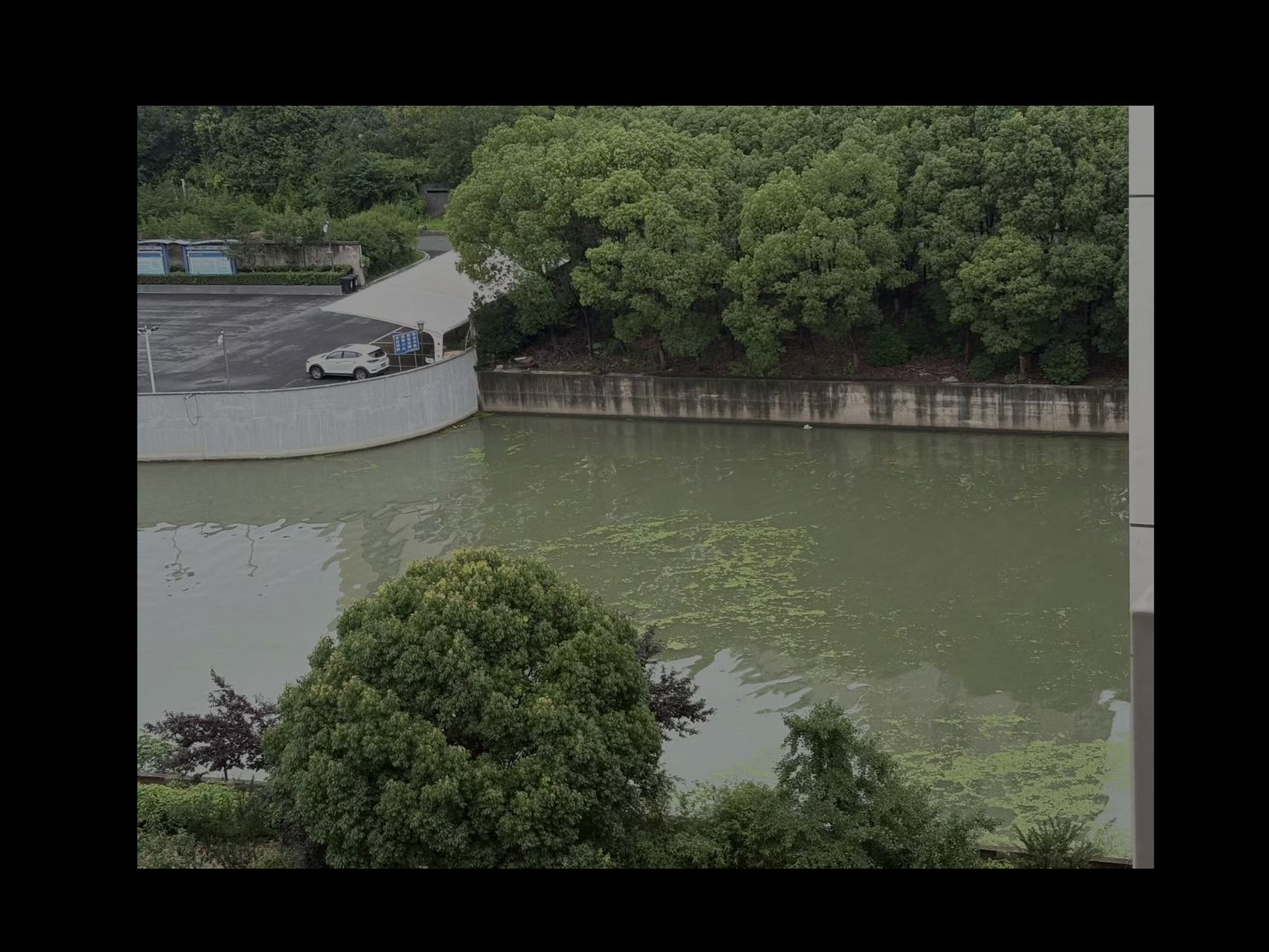Other: (591, 521, 804, 561), (703, 560, 817, 634), (910, 744, 1124, 779), (1018, 779, 1104, 817)
Plastic wastes: (803, 424, 811, 429), (452, 424, 465, 427)
